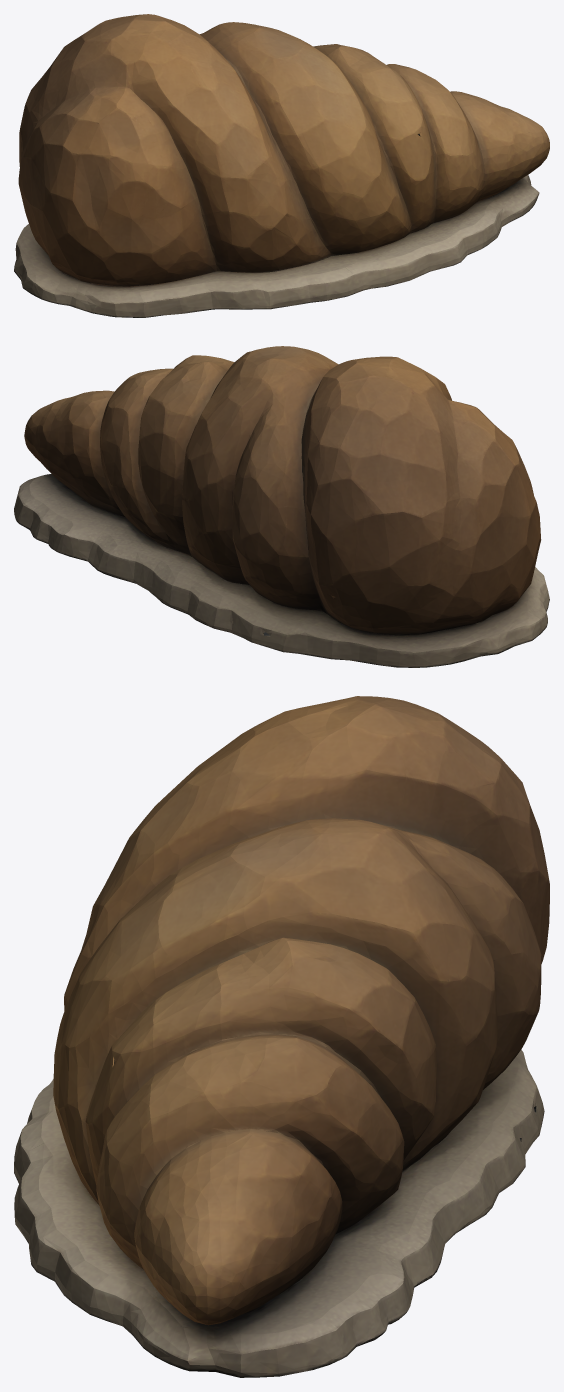
3 views of the same model, one above another, from view 1: azimuth 30°, elevation 25°; view 2: azimuth 150°, elevation 25°; view 3: azimuth 270°, elevation 25° (orthographic). The views are drawn at different scales.
Parts seen in each view (by area): view 1: world; view 2: world; view 3: world.
Boxes of the visible parts, x1,y1,x2,y2 form: world: (14, 14, 549, 317); world: (14, 346, 549, 667); world: (14, 696, 549, 1377).
Bounding box in the file's own units: 0.9935 × 0.4327 × 0.5525.
1 material, 1 textured.
